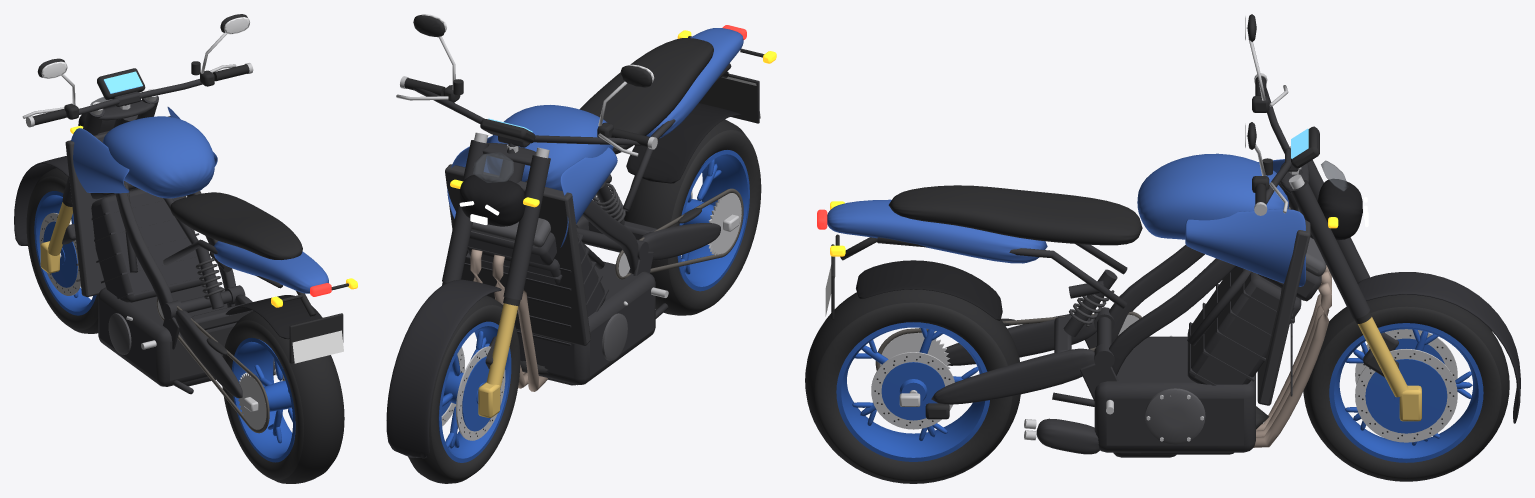
3 views of the same model, side by side, from view 1: azimuth 30°, elevation 25°; view 2: azimuth 150°, elevation 25°; view 3: azimuth 270°, elevation 25° (orthographic). The views are drawn at different scales.
Visible parts, largest first — view 1: body, wheel_rear, steer, swingarm, wheel_front, fork_lower; view 2: body, steer, wheel_rear, wheel_front, fork_lower, swingarm; view 3: body, wheel_rear, wheel_front, swingarm, steer, fork_lower.
Boxes of the visible parts, x1=… form: body: x1=65, y1=107, x2=357, y2=394; wheel_rear: x1=222, y1=311, x2=344, y2=483; steer: x1=22, y1=14, x2=253, y2=203; swingarm: x1=156, y1=290, x2=322, y2=433; wheel_front: x1=26, y1=168, x2=98, y2=333; fork_lower: x1=14, y1=156, x2=75, y2=273; body: x1=445, y1=25, x2=776, y2=391; steer: x1=396, y1=14, x2=657, y2=299; wheel_rear: x1=624, y1=119, x2=761, y2=315; wheel_front: x1=408, y1=295, x2=520, y2=483; fork_lower: x1=386, y1=279, x2=520, y2=458; swingarm: x1=576, y1=103, x2=743, y2=279; body: x1=817, y1=153, x2=1331, y2=457; wheel_rear: x1=805, y1=289, x2=1020, y2=483; wheel_front: x1=1303, y1=294, x2=1509, y2=481; swingarm: x1=856, y1=260, x2=1141, y2=419; steer: x1=1245, y1=14, x2=1370, y2=318; fork_lower: x1=1354, y1=272, x2=1520, y2=423.
Size of the model in its own units: 0.9 by 1.3 by 2.08.
